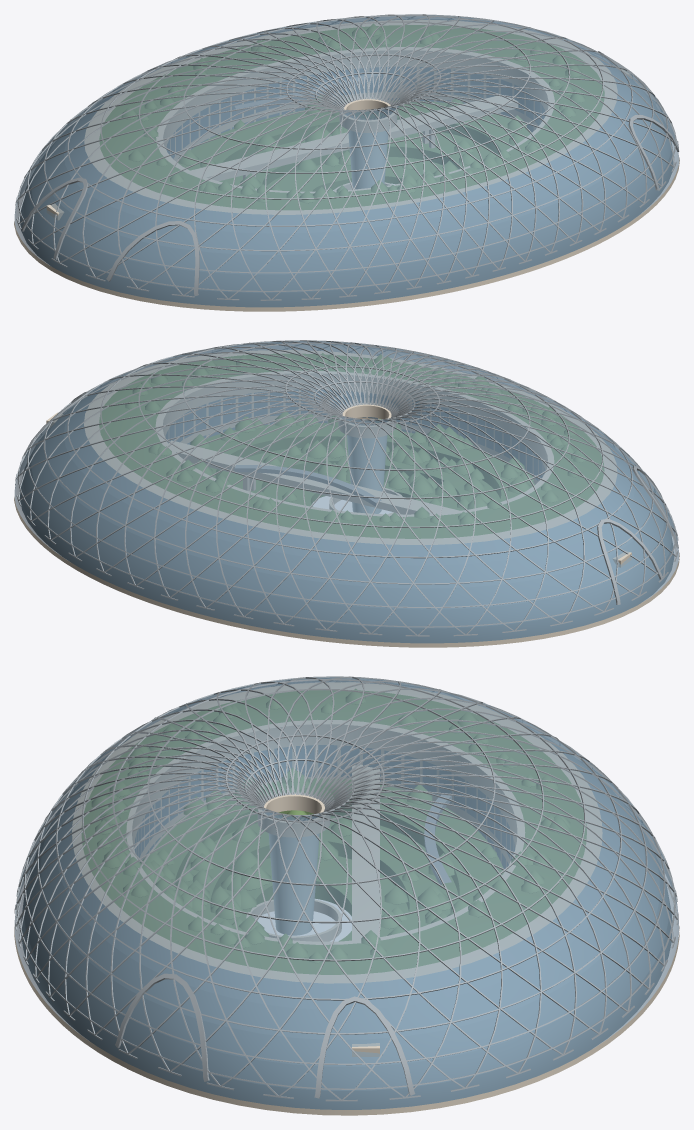
File: singapore-changi-jewel.detail.glb
3 views of the same model, one above another, from view 1: azimuth 30°, elevation 25°; view 2: azimuth 150°, elevation 25°; view 3: azimuth 270°, elevation 25° (orthographic). The views are drawn at different scales.
Visible parts, largest first — view 1: Jewel Changi Airport; view 2: Jewel Changi Airport; view 3: Jewel Changi Airport.
Part boxes in pixels (x1,y1,x2,y2): Jewel Changi Airport: (14, 14, 679, 311); Jewel Changi Airport: (14, 340, 679, 647); Jewel Changi Airport: (14, 676, 679, 1115).
Size of the model in its own units: 204 by 38.25 by 153.
